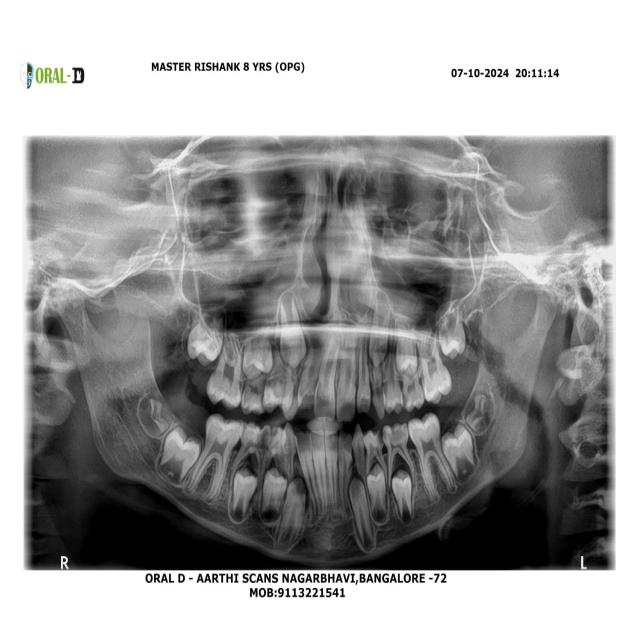Premolars: (379, 420, 421, 493), (357, 425, 390, 489)
